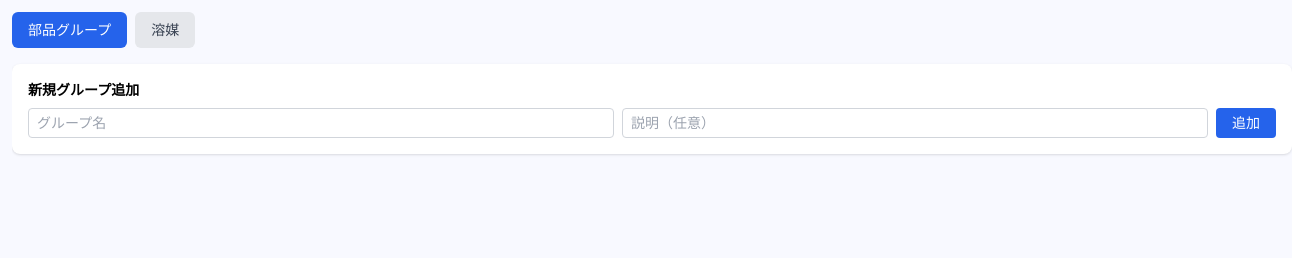
DatabaseEditor › タブ切り替え › 「溶媒」タブクリックで溶媒テーブルが表示される
Click the button "溶媒": {"x": 165, "y": 30} [135,12,195,48]
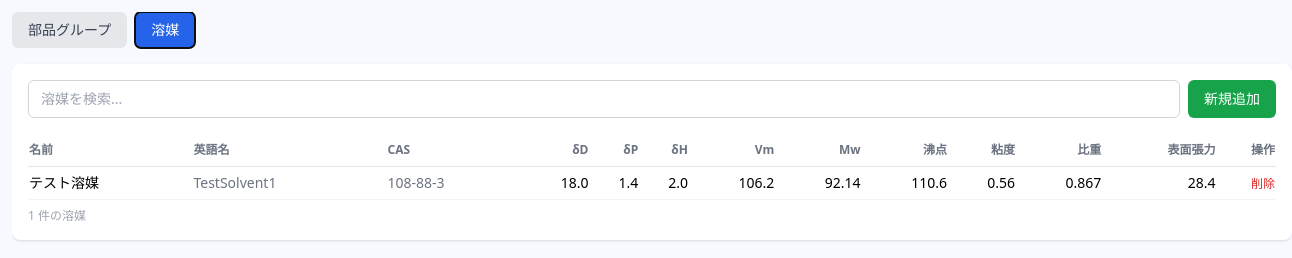
Check: the text "テスト溶媒" is shown, box [28,166,192,200]
